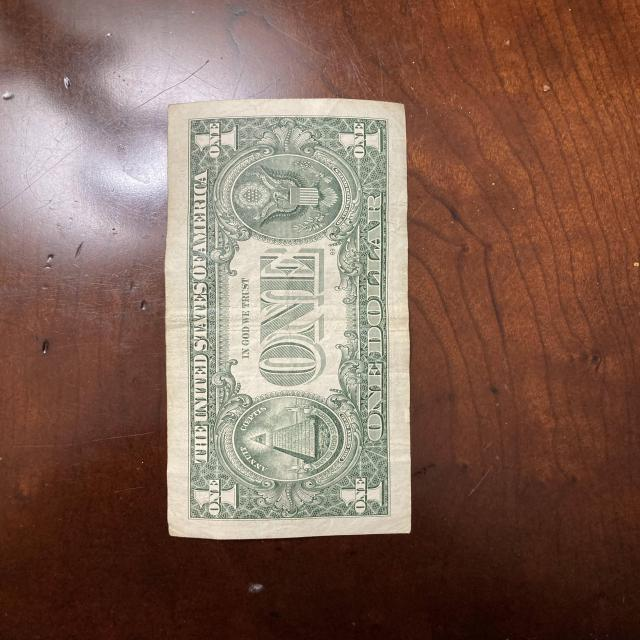one: (166, 98, 412, 540)
